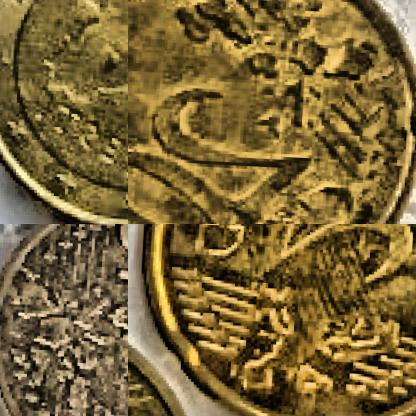coin: (128, 0, 415, 223), (131, 224, 415, 415), (0, 0, 127, 223), (0, 224, 127, 415)
